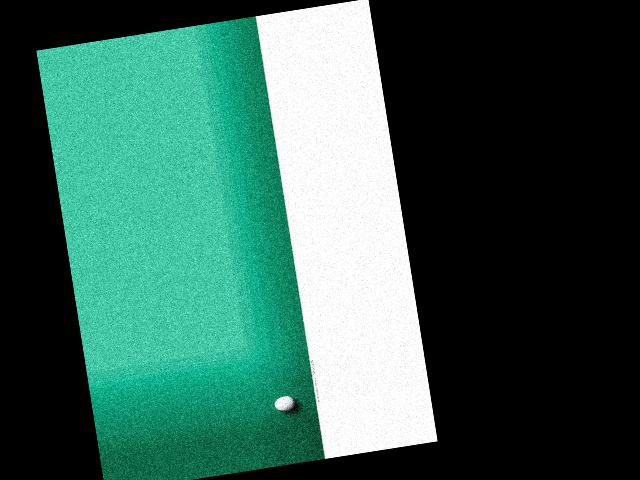egg: (273, 393, 296, 411)
